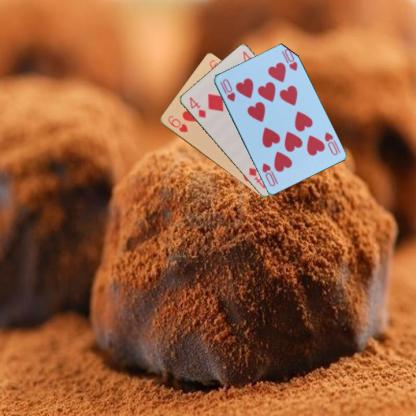10h: (217, 76, 236, 103), (321, 130, 339, 156)
4d: (186, 94, 206, 119)
6h: (165, 112, 189, 134)
